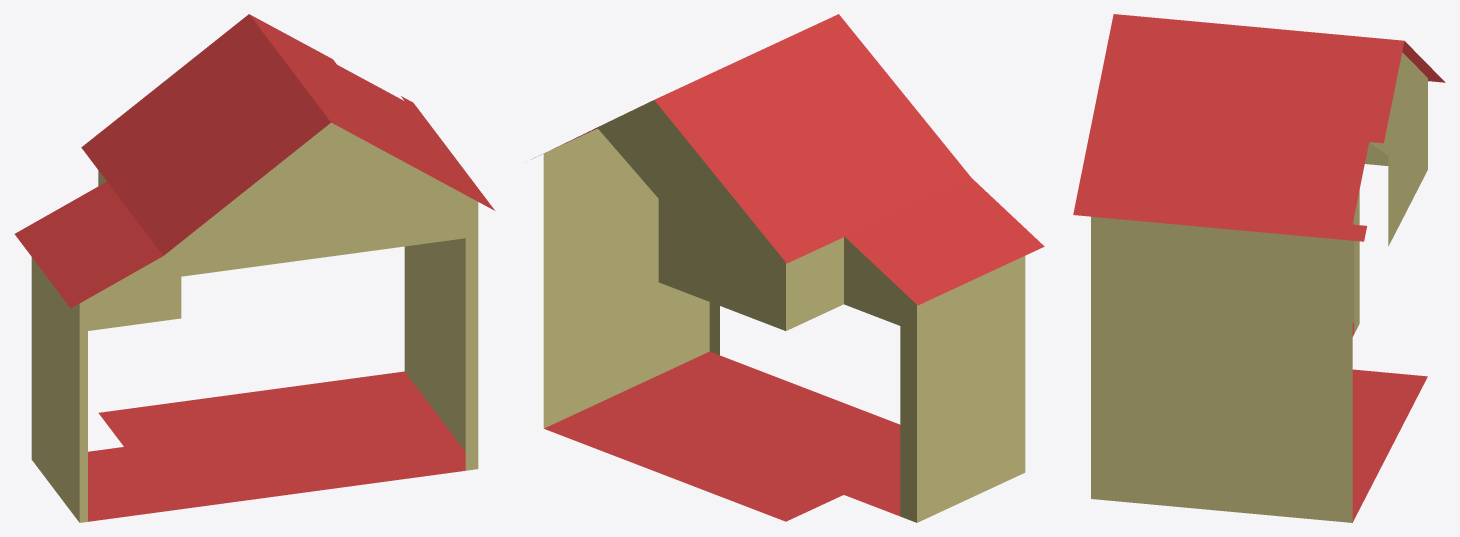
3 views of the same model, side by side, from view 1: azimuth 30°, elevation 25°; view 2: azimuth 150°, elevation 25°; view 3: azimuth 270°, elevation 25° (orthographic). The views are drawn at different scales.
Size of the model in its own units: 18.14 by 12.42 by 15.12.
